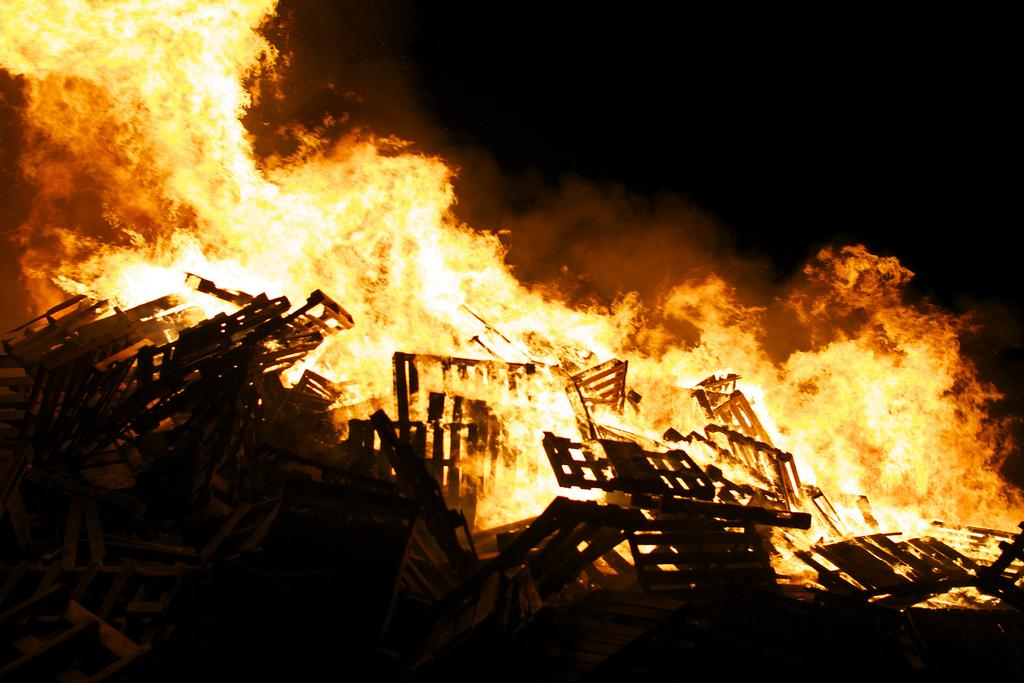fire: (793, 358, 935, 508), (3, 2, 238, 72), (177, 108, 250, 255), (288, 167, 428, 238), (417, 250, 482, 333)
